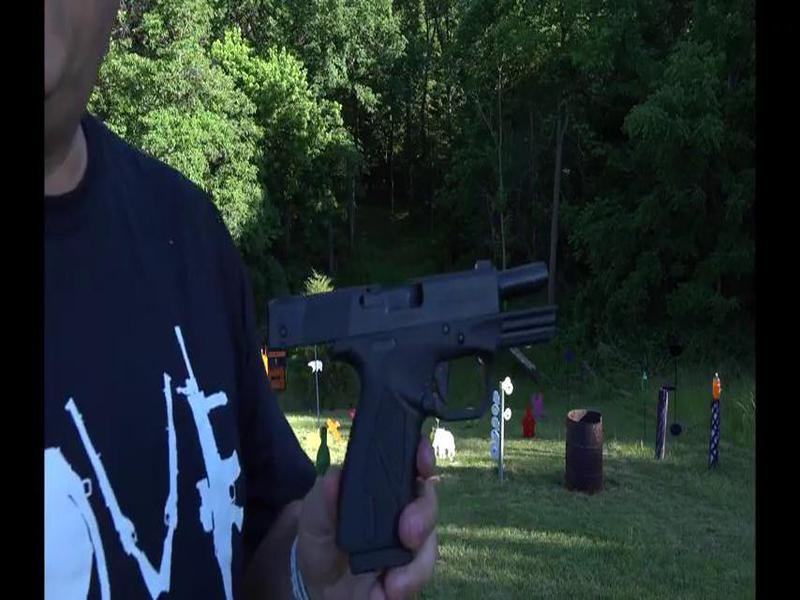Pistola: (266, 255, 571, 568)
